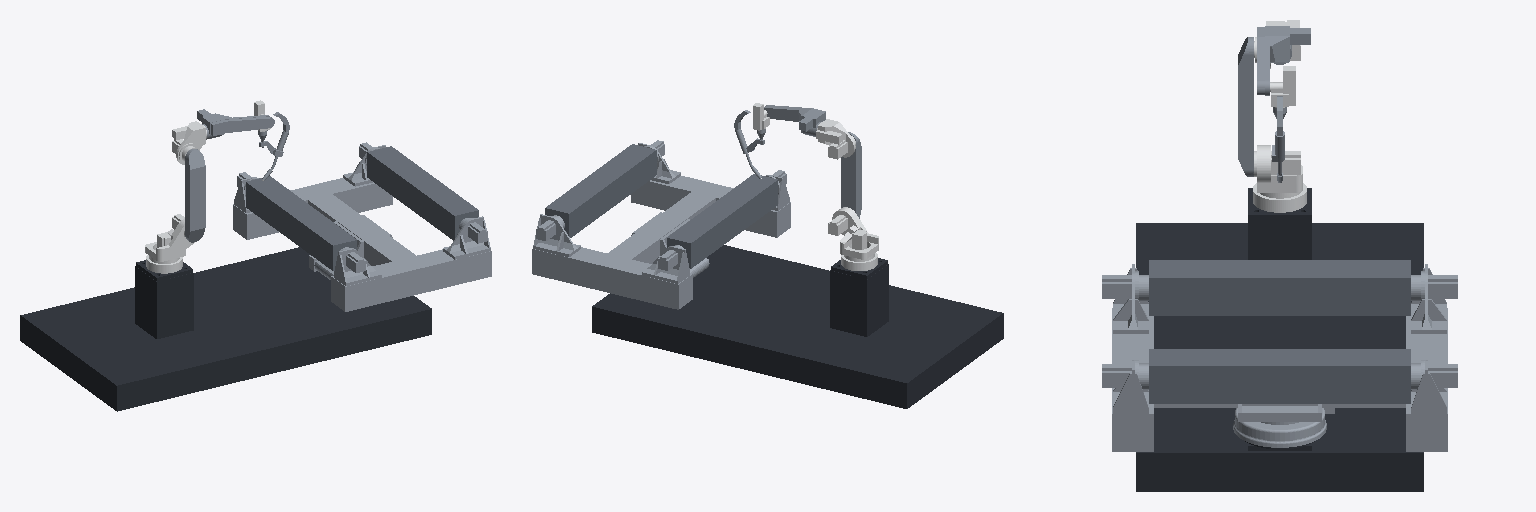
robot.urdf — rosie_1400_v3:
<?xml version="1.0"?>
<!-- Articulated DAE URDF generated from Autodesk Fusion active document full_cell_iges. -->
<!-- Regenerated by urdf/v1/rosie_1400_v3/tools/build_bundle_from_fusion_export.mjs. -->
<robot name="rosie_1400_v3">
  <material name="grey_floor_dark"><color rgba="0.23 0.25 0.28 1"/></material>
  <material name="grey_body_light"><color rgba="0.89 0.90 0.91 1"/></material>
  <material name="grey_body_mid"><color rgba="0.60 0.63 0.67 1"/></material>
  <material name="grey_fixture"><color rgba="0.65 0.68 0.72 1"/></material>
  <material name="grey_positioner_dark"><color rgba="0.46 0.49 0.53 1"/></material>
  <link name="world"/>
  <link name="floor">
    <visual>
      <origin xyz="0 0 0" rpy="0 0 0"/>
      <geometry><mesh filename="package://rosie_1400_v3/meshes/floor.dae"/></geometry>
      <material name="grey_floor_dark"/>
    </visual>
    <collision>
      <origin xyz="0 0 0" rpy="0 0 0"/>
      <geometry><mesh filename="package://rosie_1400_v3/meshes/floor.dae"/></geometry>
    </collision>
  </link>
  <link name="link_1">
    <visual>
      <origin xyz="0 0 0" rpy="0 0 0"/>
      <geometry><mesh filename="package://rosie_1400_v3/meshes/link_1.dae"/></geometry>
      <material name="grey_body_light"/>
    </visual>
    <collision>
      <origin xyz="0 0 0" rpy="0 0 0"/>
      <geometry><mesh filename="package://rosie_1400_v3/meshes/link_1.dae"/></geometry>
    </collision>
  </link>
  <link name="link_2">
    <visual>
      <origin xyz="0 0 0" rpy="0 0 0"/>
      <geometry><mesh filename="package://rosie_1400_v3/meshes/link_2.dae"/></geometry>
      <material name="grey_body_mid"/>
    </visual>
    <collision>
      <origin xyz="0 0 0" rpy="0 0 0"/>
      <geometry><mesh filename="package://rosie_1400_v3/meshes/link_2.dae"/></geometry>
    </collision>
  </link>
  <link name="link_3">
    <visual>
      <origin xyz="0 0 0" rpy="0 0 0"/>
      <geometry><mesh filename="package://rosie_1400_v3/meshes/link_3.dae"/></geometry>
      <material name="grey_body_light"/>
    </visual>
    <collision>
      <origin xyz="0 0 0" rpy="0 0 0"/>
      <geometry><mesh filename="package://rosie_1400_v3/meshes/link_3.dae"/></geometry>
    </collision>
  </link>
  <link name="link_4">
    <visual>
      <origin xyz="0 0 0" rpy="0 0 0"/>
      <geometry><mesh filename="package://rosie_1400_v3/meshes/link_4.dae"/></geometry>
      <material name="grey_body_mid"/>
    </visual>
    <collision>
      <origin xyz="0 0 0" rpy="0 0 0"/>
      <geometry><mesh filename="package://rosie_1400_v3/meshes/link_4.dae"/></geometry>
    </collision>
  </link>
  <link name="link_5">
    <visual>
      <origin xyz="0 0 0" rpy="0 0 0"/>
      <geometry><mesh filename="package://rosie_1400_v3/meshes/link_5.dae"/></geometry>
      <material name="grey_body_light"/>
    </visual>
    <collision>
      <origin xyz="0 0 0" rpy="0 0 0"/>
      <geometry><mesh filename="package://rosie_1400_v3/meshes/link_5.dae"/></geometry>
    </collision>
  </link>
  <link name="link_6">
    <visual>
      <origin xyz="0 0 0" rpy="0 0 0"/>
      <geometry><mesh filename="package://rosie_1400_v3/meshes/link_6.dae"/></geometry>
      <material name="grey_body_mid"/>
    </visual>
    <collision>
      <origin xyz="0 0 0" rpy="0 0 0"/>
      <geometry><mesh filename="package://rosie_1400_v3/meshes/link_6.dae"/></geometry>
    </collision>
  </link>
  <link name="end_effector">
    <visual>
      <origin xyz="0 0 0" rpy="0 0 0"/>
      <geometry><mesh filename="package://rosie_1400_v3/meshes/end_effector.dae"/></geometry>
      <material name="grey_body_light"/>
    </visual>
    <collision>
      <origin xyz="0 0 0" rpy="0 0 0"/>
      <geometry><mesh filename="package://rosie_1400_v3/meshes/end_effector.dae"/></geometry>
    </collision>
  </link>
  <link name="h_frame">
    <visual>
      <origin xyz="0 0 0" rpy="0 0 0"/>
      <geometry><mesh filename="package://rosie_1400_v3/meshes/h_frame.dae"/></geometry>
      <material name="grey_fixture"/>
    </visual>
    <collision>
      <origin xyz="0 0 0" rpy="0 0 0"/>
      <geometry><mesh filename="package://rosie_1400_v3/meshes/h_frame.dae"/></geometry>
    </collision>
  </link>
  <link name="positioner_table_a">
    <visual>
      <origin xyz="0 0 0" rpy="0 0 0"/>
      <geometry><mesh filename="package://rosie_1400_v3/meshes/positioner_table_a.dae"/></geometry>
      <material name="grey_positioner_dark"/>
    </visual>
    <collision>
      <origin xyz="0 0 0" rpy="0 0 0"/>
      <geometry><mesh filename="package://rosie_1400_v3/meshes/positioner_table_a.dae"/></geometry>
    </collision>
  </link>
  <link name="positioner_table_b">
    <visual>
      <origin xyz="0 0 0" rpy="0 0 0"/>
      <geometry><mesh filename="package://rosie_1400_v3/meshes/positioner_table_b.dae"/></geometry>
      <material name="grey_positioner_dark"/>
    </visual>
    <collision>
      <origin xyz="0 0 0" rpy="0 0 0"/>
      <geometry><mesh filename="package://rosie_1400_v3/meshes/positioner_table_b.dae"/></geometry>
    </collision>
  </link>
  <link name="tool0"/>
  <joint name="world_to_floor" type="fixed">
    <parent link="world"/>
    <child link="floor"/>
    <origin xyz="0 0 0" rpy="0 0 0"/>
  </joint>
  <joint name="J1" type="revolute">
    <parent link="floor"/>
    <child link="link_1"/>
    <origin xyz="0.7874 0.6858 0.4808375" rpy="0 0 0"/>
    <axis xyz="0 0 1"/>
    <limit lower="-6.3" upper="6.3" effort="100" velocity="2"/>
  </joint>
  <joint name="J2" type="revolute">
    <parent link="link_1"/>
    <child link="link_2"/>
    <origin xyz="0.159999735 -0.125500489 0.269888605" rpy="0 0 0"/>
    <axis xyz="0 1 0"/>
    <limit lower="-1.9" upper="1.9" effort="100" velocity="2"/>
  </joint>
  <joint name="J3" type="revolute">
    <parent link="link_2"/>
    <child link="link_3"/>
    <origin xyz="0 0 0.6" rpy="0 0 0"/>
    <axis xyz="0 1 0"/>
    <limit lower="-4.2" upper="1.53" effort="100" velocity="2"/>
  </joint>
  <joint name="J4" type="revolute">
    <parent link="link_3"/>
    <child link="link_4"/>
    <origin xyz="0.159 0.125499999 0.105000002" rpy="0 0 0"/>
    <axis xyz="1 0 0"/>
    <limit lower="-6.3" upper="6.3" effort="100" velocity="2"/>
  </joint>
  <joint name="J5" type="revolute">
    <parent link="link_4"/>
    <child link="link_5"/>
    <origin xyz="0.4877 -0.047833043 0" rpy="0 0 0"/>
    <axis xyz="0 1 0"/>
    <limit lower="-6.3" upper="6.3" effort="100" velocity="2"/>
  </joint>
  <joint name="J6" type="revolute">
    <parent link="link_5"/>
    <child link="link_6"/>
    <origin xyz="0 0.047833043 -0.0933" rpy="0 0 0"/>
    <axis xyz="0 0 1"/>
    <limit lower="-10" upper="10" effort="100" velocity="2"/>
  </joint>
  <joint name="link_6_to_end_effector" type="fixed">
    <parent link="link_6"/>
    <child link="end_effector"/>
    <origin xyz="0.004682724 0 -0.398382724" rpy="3.141592654 0.785398163 -3.141592654"/>
  </joint>
  <joint name="end_effector_to_tool0" type="fixed">
    <parent link="end_effector"/>
    <child link="tool0"/>
    <origin xyz="0 0 0" rpy="0 0 0"/>
  </joint>
  <joint name="J9" type="revolute">
    <parent link="floor"/>
    <child link="h_frame"/>
    <origin xyz="2.413 0.6858 0.0448788" rpy="0 0 0"/>
    <axis xyz="0 0 1"/>
    <limit lower="-3.141592654" upper="3.141592654" effort="50" velocity="1"/>
  </joint>
  <joint name="J7" type="revolute">
    <parent link="h_frame"/>
    <child link="positioner_table_a"/>
    <origin xyz="-0.5 0.62200026 0.506" rpy="0 0 0"/>
    <axis xyz="0 1 0"/>
    <limit lower="-3.141592654" upper="3.141592654" effort="50" velocity="1"/>
  </joint>
  <joint name="J8" type="revolute">
    <parent link="h_frame"/>
    <child link="positioner_table_b"/>
    <origin xyz="0.5 0.62200026 0.506" rpy="0 0 0"/>
    <axis xyz="0 -1 0"/>
    <limit lower="-3.141592654" upper="3.141592654" effort="50" velocity="1"/>
  </joint>
</robot>

--- What the picture shows (computed from the rendered views, not written in the file) ---
The picture shows the robot from 3 angles, left to right: view 1: azimuth 30°, elevation 25°; view 2: azimuth 150°, elevation 25°; view 3: azimuth 270°, elevation 25°; orthographic projection.
Model rosie_1400_v3 with 13 links and 12 joints (9 revolute, 3 fixed), rooted at world, posed all joints at 0.
Visible links, largest first — view 1: floor, h_frame, positioner_table_b, positioner_table_a, link_2, link_1, link_4, link_3, link_6; view 2: floor, h_frame, positioner_table_b, positioner_table_a, link_1, link_2, link_3, link_4, link_6; view 3: floor, h_frame, positioner_table_a, positioner_table_b, link_1, link_2, link_4, link_5, link_6.
Link boxes in pixels (x1,y1,x2,y2): floor: (20,247,431,411); h_frame: (233,142,491,311); positioner_table_b: (367,146,478,240); positioner_table_a: (246,176,356,270); link_2: (185,149,205,242); link_1: (145,214,194,273); link_4: (197,109,274,139); link_3: (172,121,206,164); link_6: (258,112,289,180); floor: (592,245,1003,408); h_frame: (532,140,790,309); positioner_table_b: (545,144,656,237); positioner_table_a: (667,174,777,268); link_1: (828,207,878,270); link_2: (841,132,861,218); link_3: (816,119,855,159); link_4: (764,105,825,136); link_6: (734,110,765,178); floor: (1136,188,1423,491); h_frame: (1102,264,1457,451); positioner_table_a: (1149,260,1410,315); positioner_table_b: (1149,349,1410,403); link_1: (1253,145,1306,212); link_2: (1238,37,1253,176); link_4: (1257,26,1310,95); link_5: (1270,66,1295,107); link_6: (1272,96,1286,182).
Bounding box of the posed robot: 3.01 × 1.7 × 1.76 m (x, y, z).
Meshes: 11 distinct files referenced, 11 mesh visuals loaded (11 Collada DAE).
